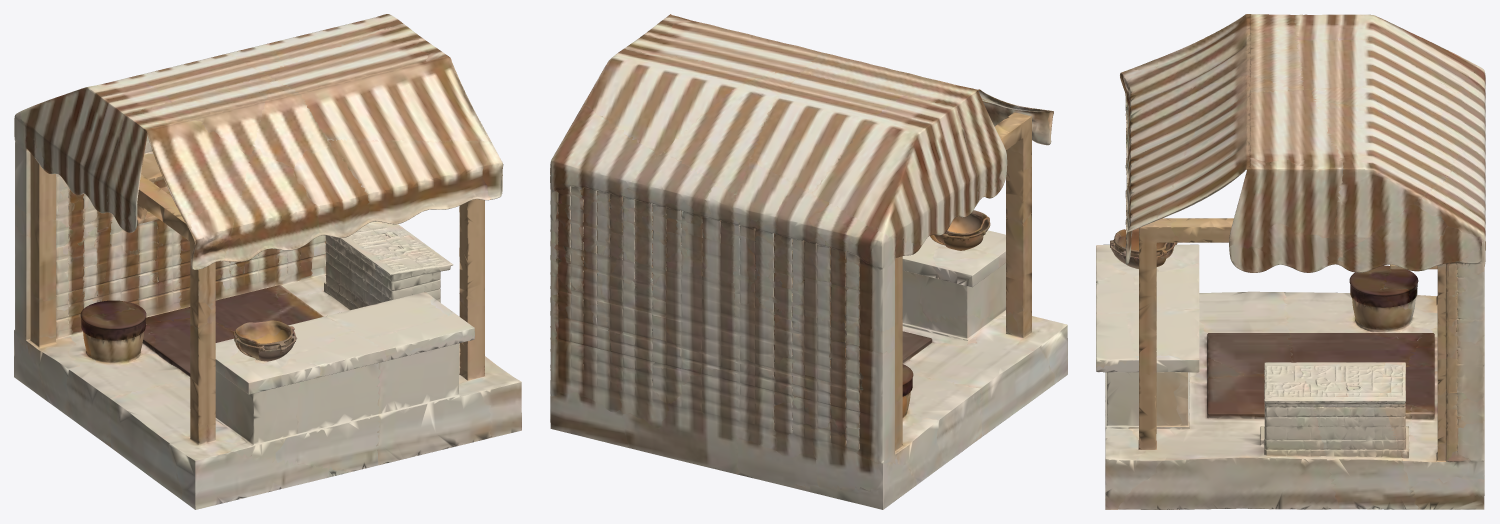
The model's file is Meshy_AI_A_market_stall_A_low_0808145834_texture.glb.
3 renders of one model, left to right at view 1: azimuth 30°, elevation 25°; view 2: azimuth 150°, elevation 25°; view 3: azimuth 270°, elevation 25°, orthographic. The views are drawn at different scales.
Parts seen in each view (by area): view 1: mesh_node; view 2: mesh_node; view 3: mesh_node.
Part boxes in pixels (x1,y1,x2,y2): mesh_node: (14, 14, 521, 509); mesh_node: (550, 14, 1067, 509); mesh_node: (1096, 14, 1485, 509).
Bounding box in the file's own units: 1.9 × 1.77 × 1.84.
Materials: 1 (1 with a texture image).
